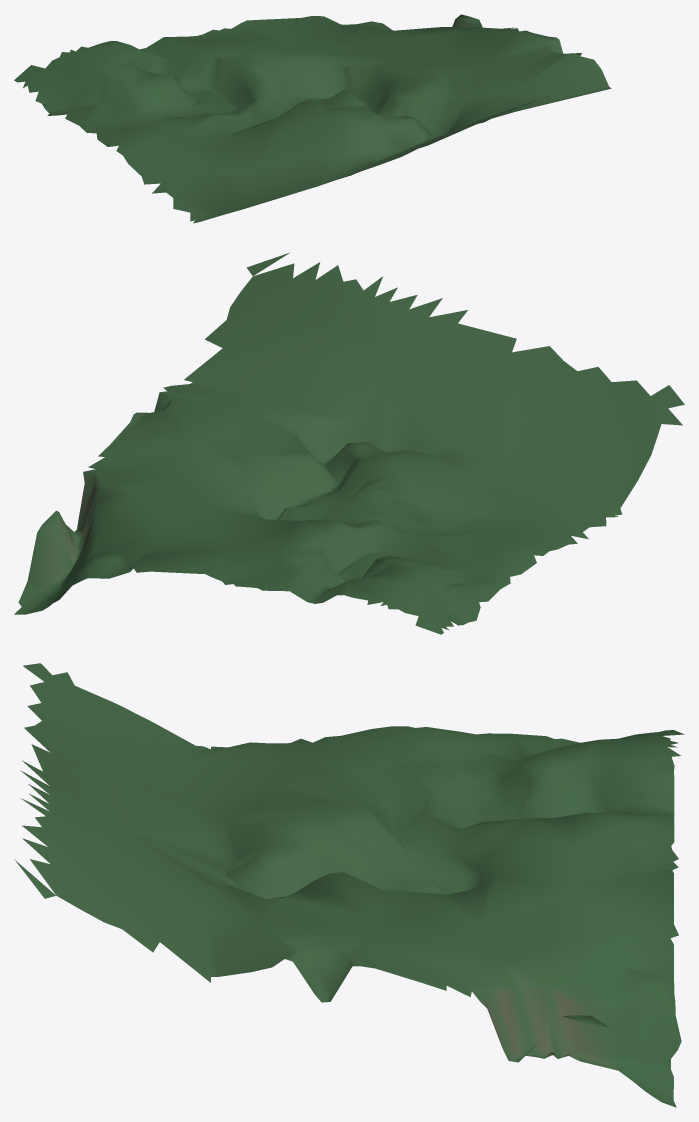
File: payo_land_xm3_y9_lod2.glb
3 renders of one model, top to bottom at view 1: azimuth 30°, elevation 25°; view 2: azimuth 150°, elevation 25°; view 3: azimuth 270°, elevation 25°, orthographic. The views are drawn at different scales.
Parts seen in each view (by area): view 1: payo_land_xm3_y9; view 2: payo_land_xm3_y9; view 3: payo_land_xm3_y9.
Boxes of the visible parts, x1,y1,x2,y2 form: payo_land_xm3_y9: (14, 14, 611, 223); payo_land_xm3_y9: (14, 252, 684, 634); payo_land_xm3_y9: (14, 663, 684, 1107).
Bounding box in the file's own units: 268 × 105 × 269.
